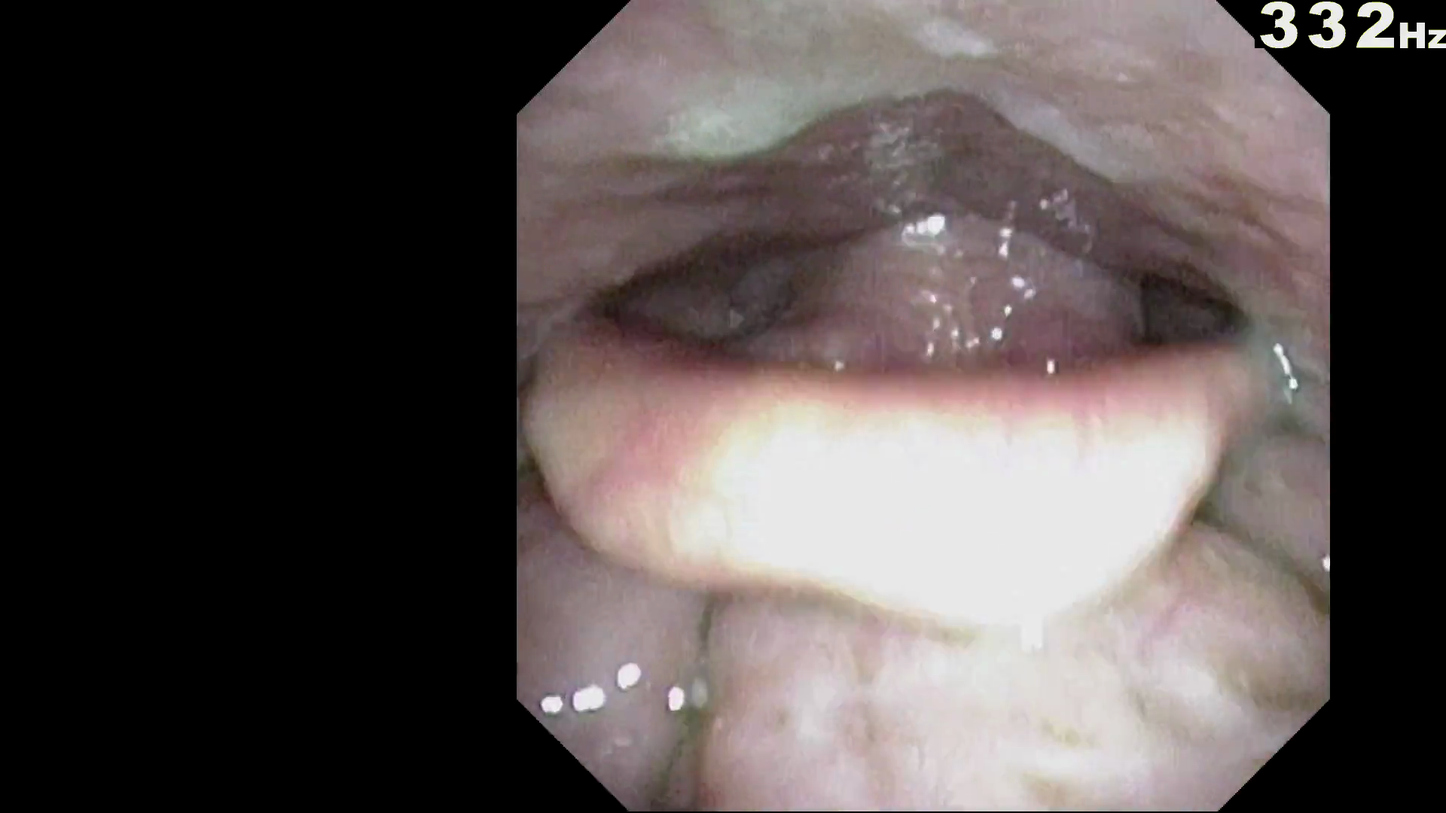epiglottis: (615, 318, 1228, 517)
